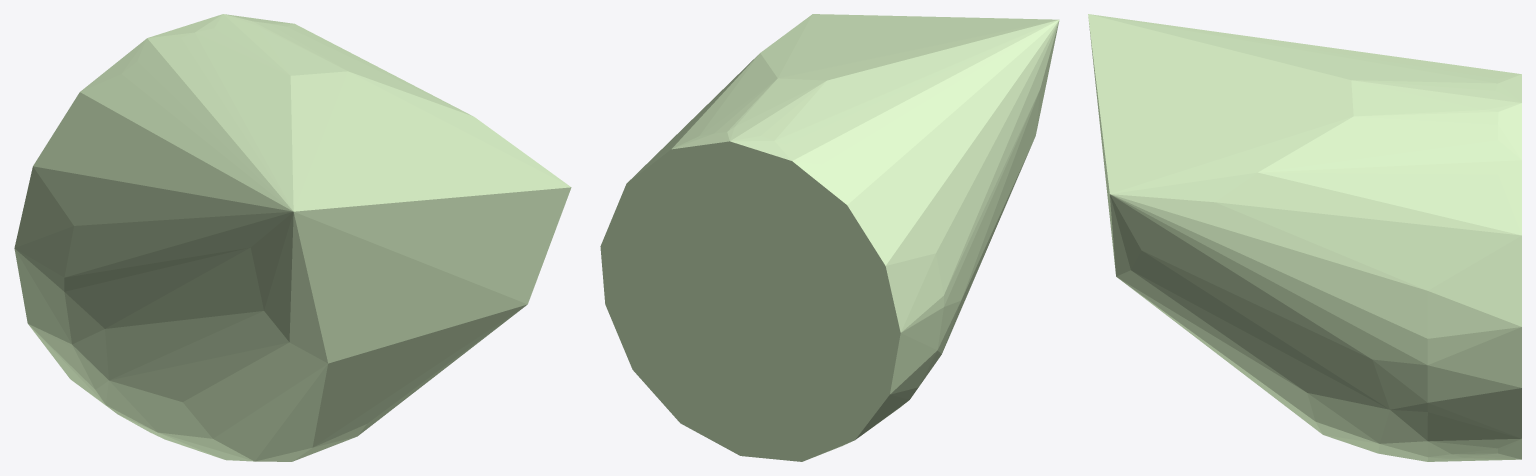
File: kuka_URDF_link4_resp_coll_1.dae
3 renders of one model, left to right at view 1: azimuth 30°, elevation 25°; view 2: azimuth 150°, elevation 25°; view 3: azimuth 270°, elevation 25°, orthographic. The views are drawn at different scales.
Parts seen in each view (by area): view 1: Node_0000020FCC58E660; view 2: Node_0000020FCC58E660; view 3: Node_0000020FCC58E660.
Boxes of the visible parts, x1,y1,x2,y2 form: Node_0000020FCC58E660: [14, 14, 571, 461]; Node_0000020FCC58E660: [600, 14, 1059, 461]; Node_0000020FCC58E660: [1088, 14, 1521, 461].
Bounding box in the file's own units: 0.137 × 0.141 × 0.152.
